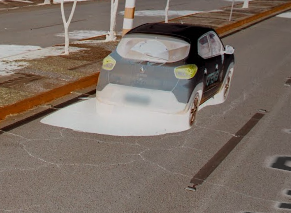car: (95, 5, 238, 136)
